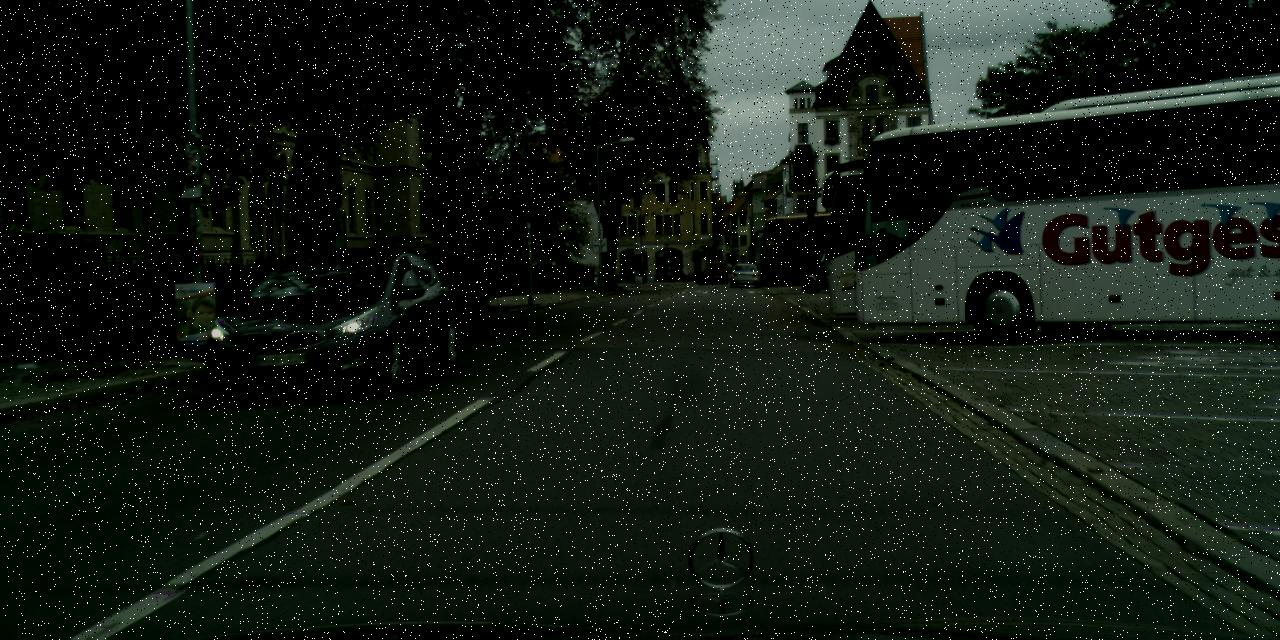ped: (666, 266, 672, 283), (682, 266, 688, 282)
